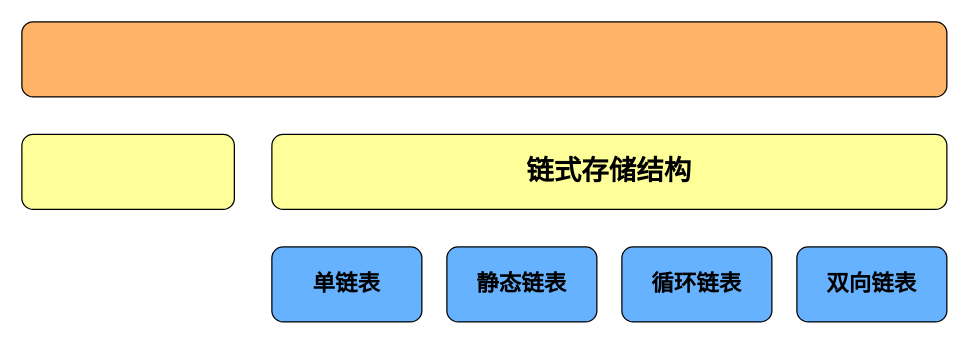
This 969x344 diagram has some shape labels left out. Here are the shapes that lost their labels. From the top down, the box of each, then its label:
(21, 21, 947, 97): 线性表
(21, 133, 234, 209): 顺序存储结构
